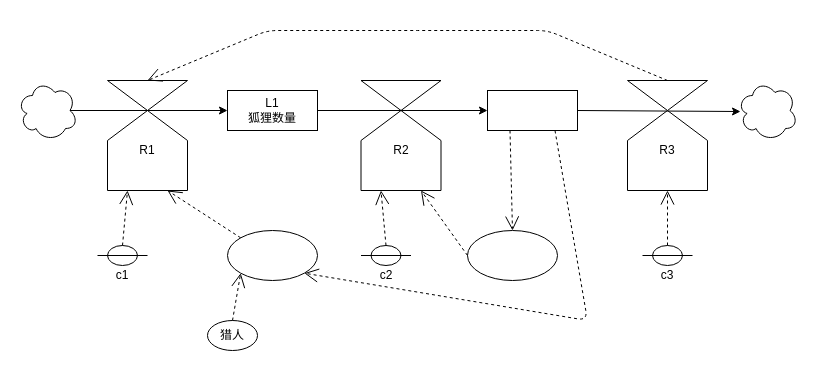
Some shapes in this 815 by 368 pixel diagram are drawn without their labels. Here are the shapes that lost their labels. From the top down, the box of each, then its label:
(486, 90, 578, 130): L2 啮齿动物数量
(226, 230, 318, 280): 狐狸死亡数量
(466, 230, 558, 280): 水草制约
